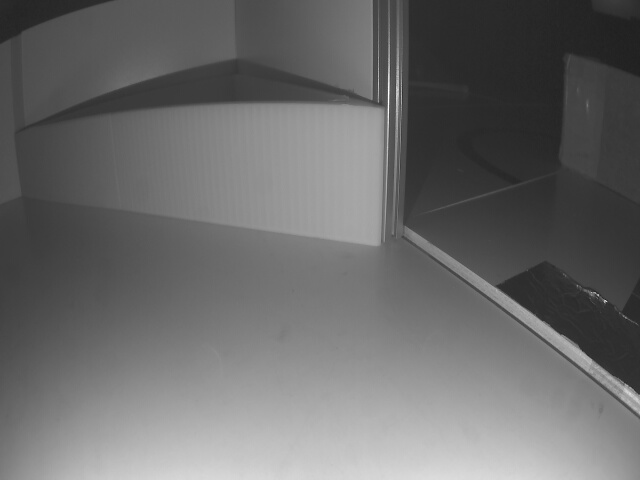Point: (11, 105, 382, 249)
